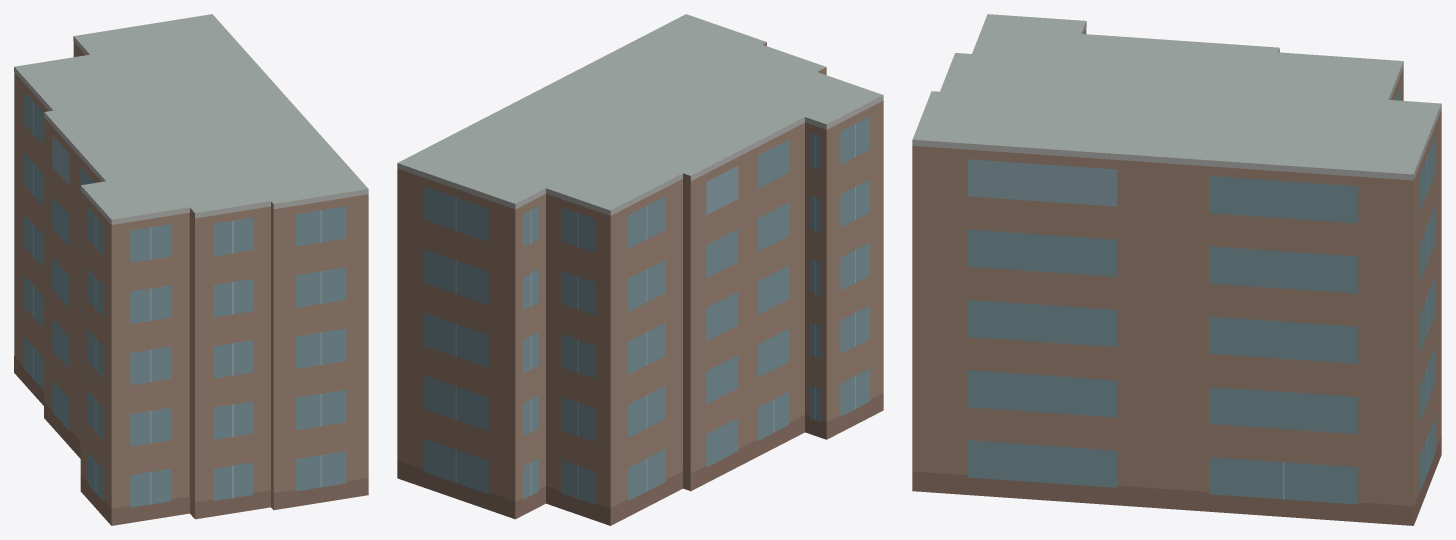
File: survey-upis-32659655.glb
3 views of the same model, side by side, from view 1: azimuth 30°, elevation 25°; view 2: azimuth 150°, elevation 25°; view 3: azimuth 270°, elevation 25° (orthographic). The views are drawn at different scales.
Visible parts, largest first — view 1: survey-upis-32659655.tmp; view 2: survey-upis-32659655.tmp; view 3: survey-upis-32659655.tmp.
Part boxes in pixels (x1=…): survey-upis-32659655.tmp: x1=14, y1=14, x2=368, y2=525; survey-upis-32659655.tmp: x1=397, y1=14, x2=883, y2=525; survey-upis-32659655.tmp: x1=912, y1=14, x2=1441, y2=525.
Size of the model in its own units: 13.92 by 14.2 by 19.39.
